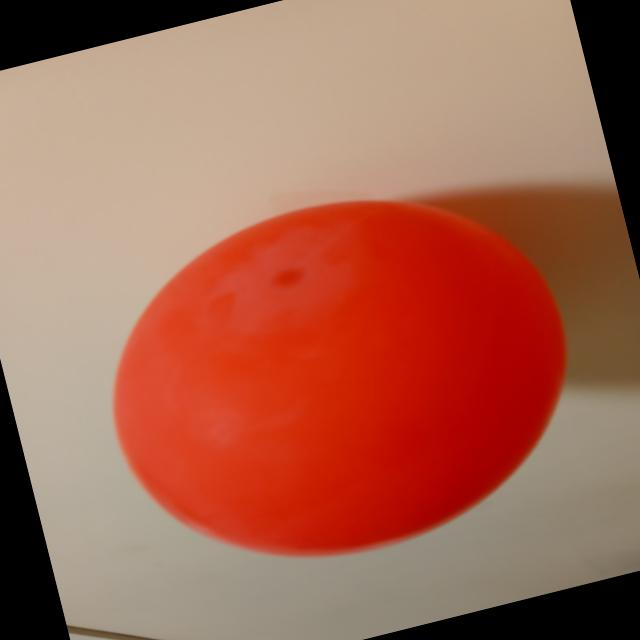balloon: (114, 201, 565, 555)
